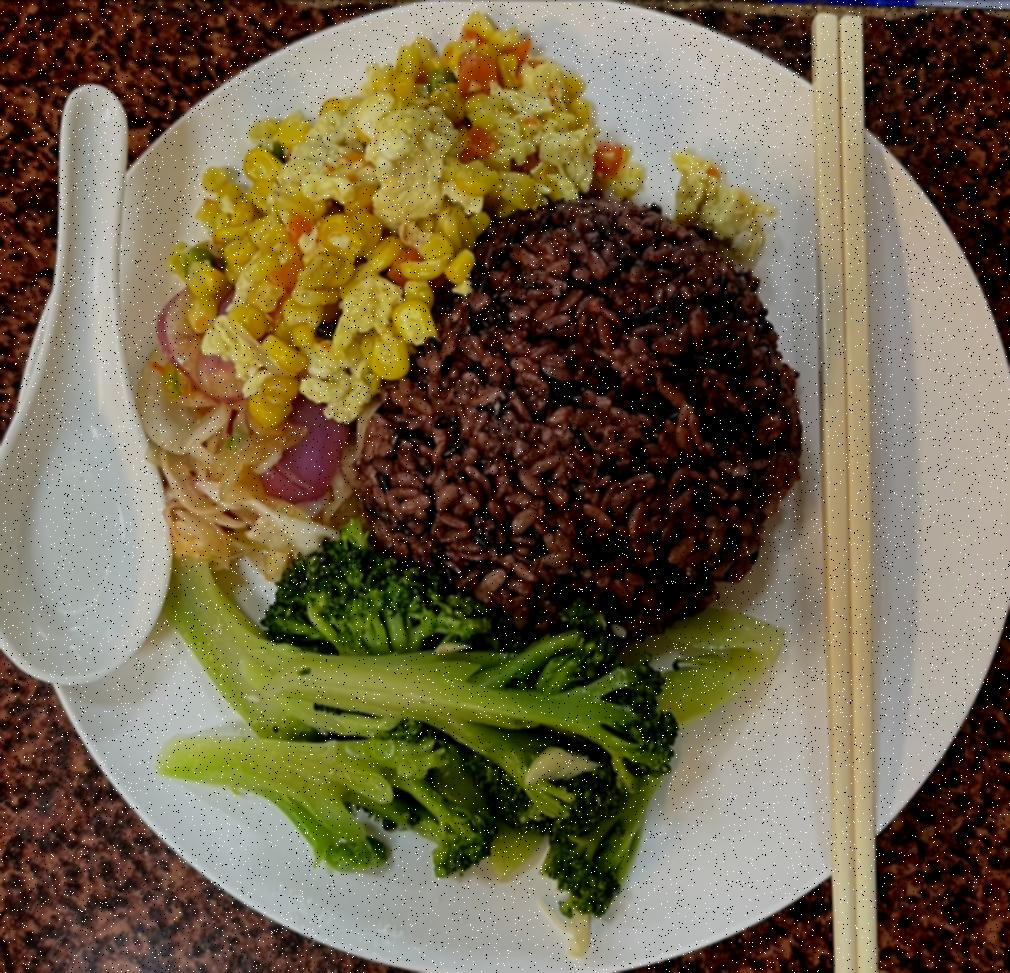plate: (6, 6, 1010, 973)
purple rice: (368, 200, 800, 640)
side dish: (160, 538, 792, 920), (173, 14, 634, 414), (132, 297, 371, 570)
